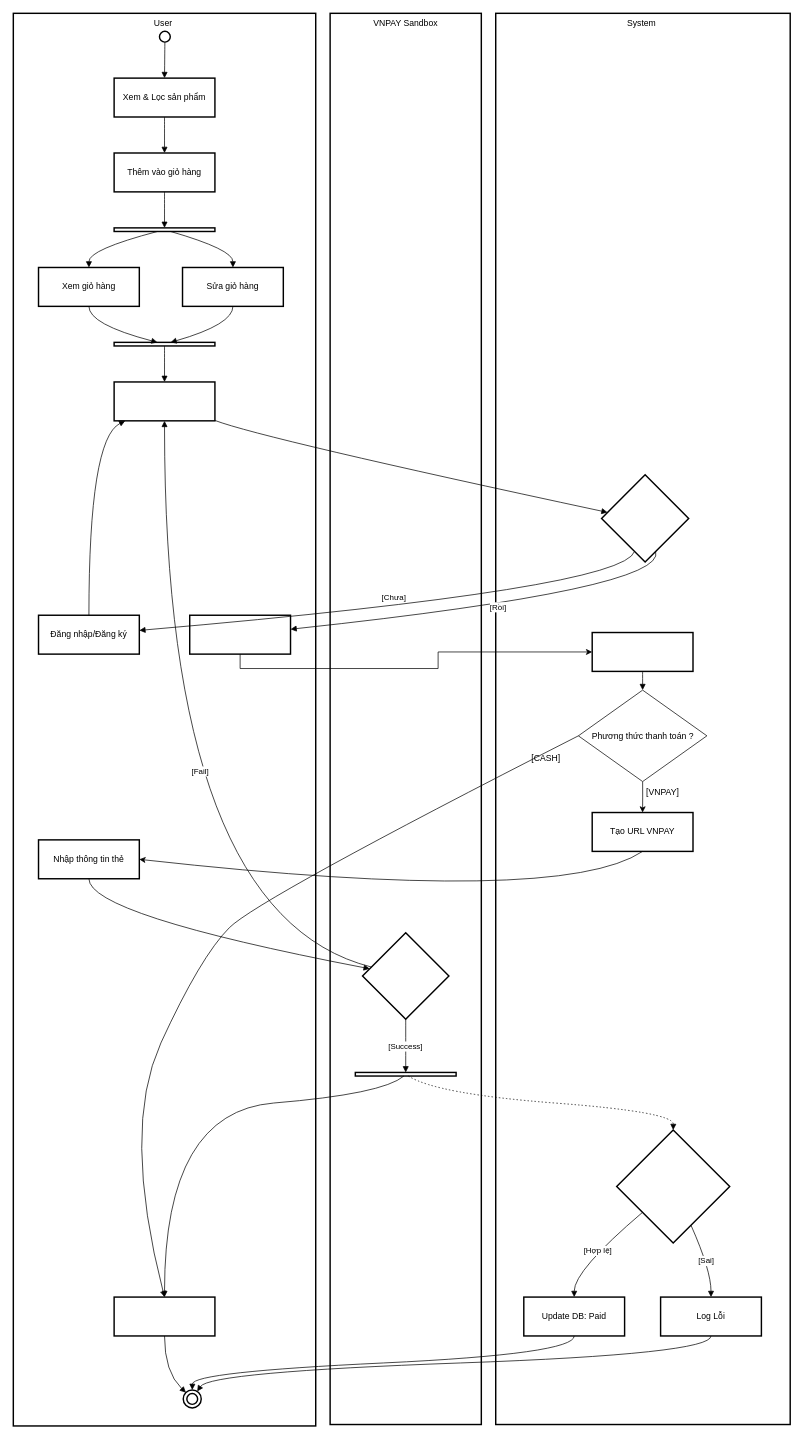
This 803x1439 diagram has some shape labels left out. The centre of each missing label's shape, as x and y in pixels:
"Check Chữ ký?" belongs at [673,1186].
"Lưu đơn" belongs at [642,651].
"Nhấn Thanh toán" belongs at [164,401].
"Nhận kết quả" belongs at [164,1316].
"Xác nhận Đơn hàng" belongs at [240,634].
"Xử lý thẻ" belongs at [405,976].
"Đã Login?" belongs at [644,518].
